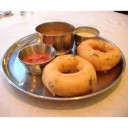vada: (42, 55, 96, 93), (78, 39, 122, 71)
